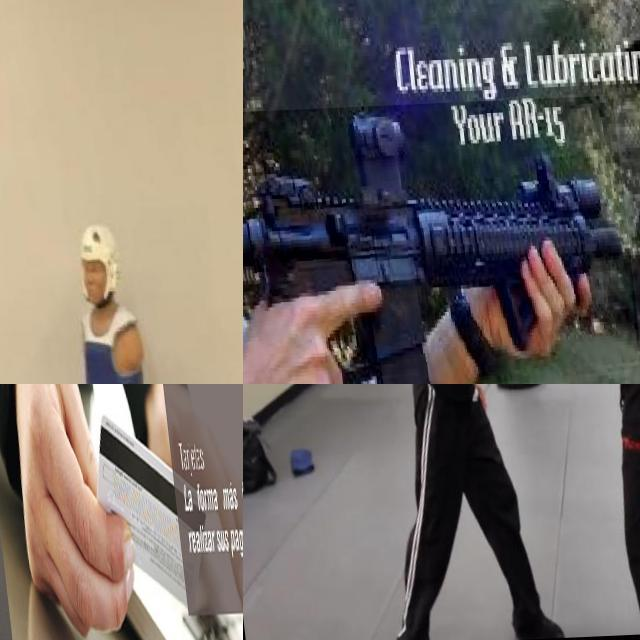-: (458, 384, 536, 418)
gun-knife-thesis - v11 Yolov5 augmented: (243, 100, 640, 384)
